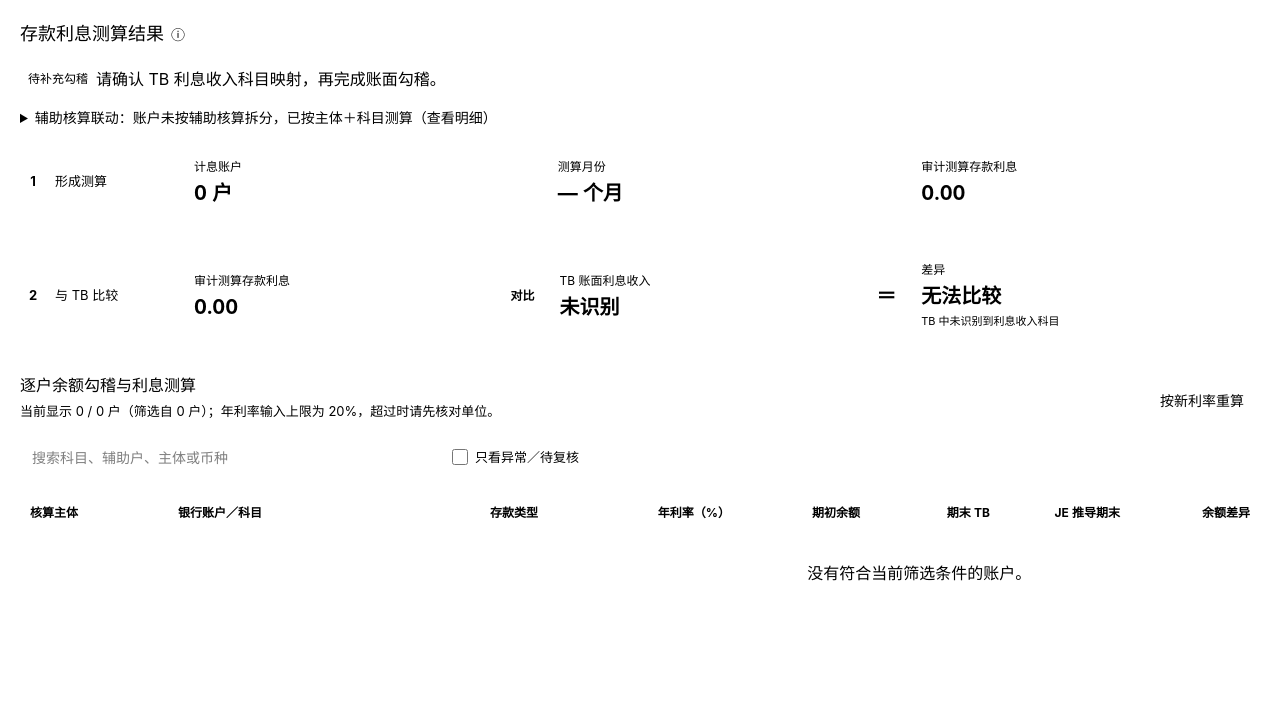
Test: 存款辅助核算降级明细 › 历史结果只有通用告警时保留原因并说明需重算，不编造账户清单
Click the heading "辅助核算联动：账户未按辅助核算拆分，已按主体＋科目测算（查看明细）" at point(266, 118), box [35,109,497,126]
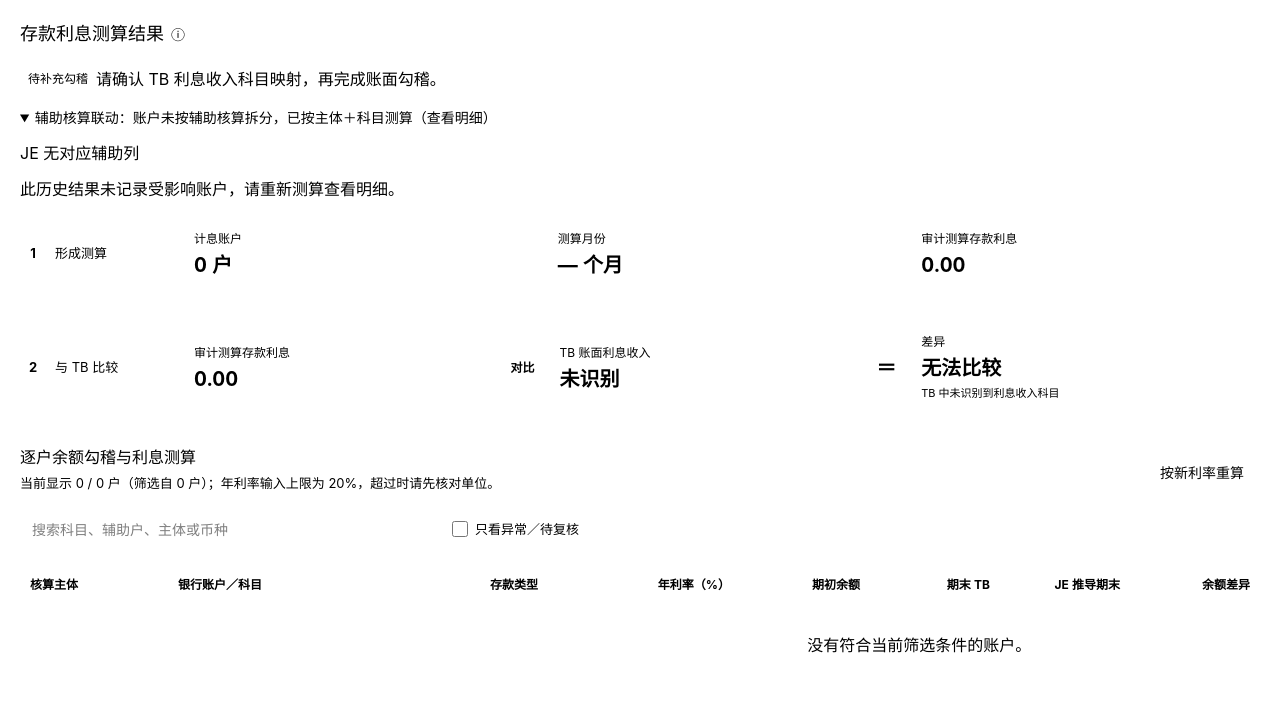
Expected: the element labelled "辅助核算联动" does not show "以下账户", [20,109,497,199]
Now the list item "JE 无对应辅助列" is shown, box [20,143,139,163]
Now the text "此历史结果未记录受影响账户，请重新测算查看明细。" is shown, box [20,179,404,199]
